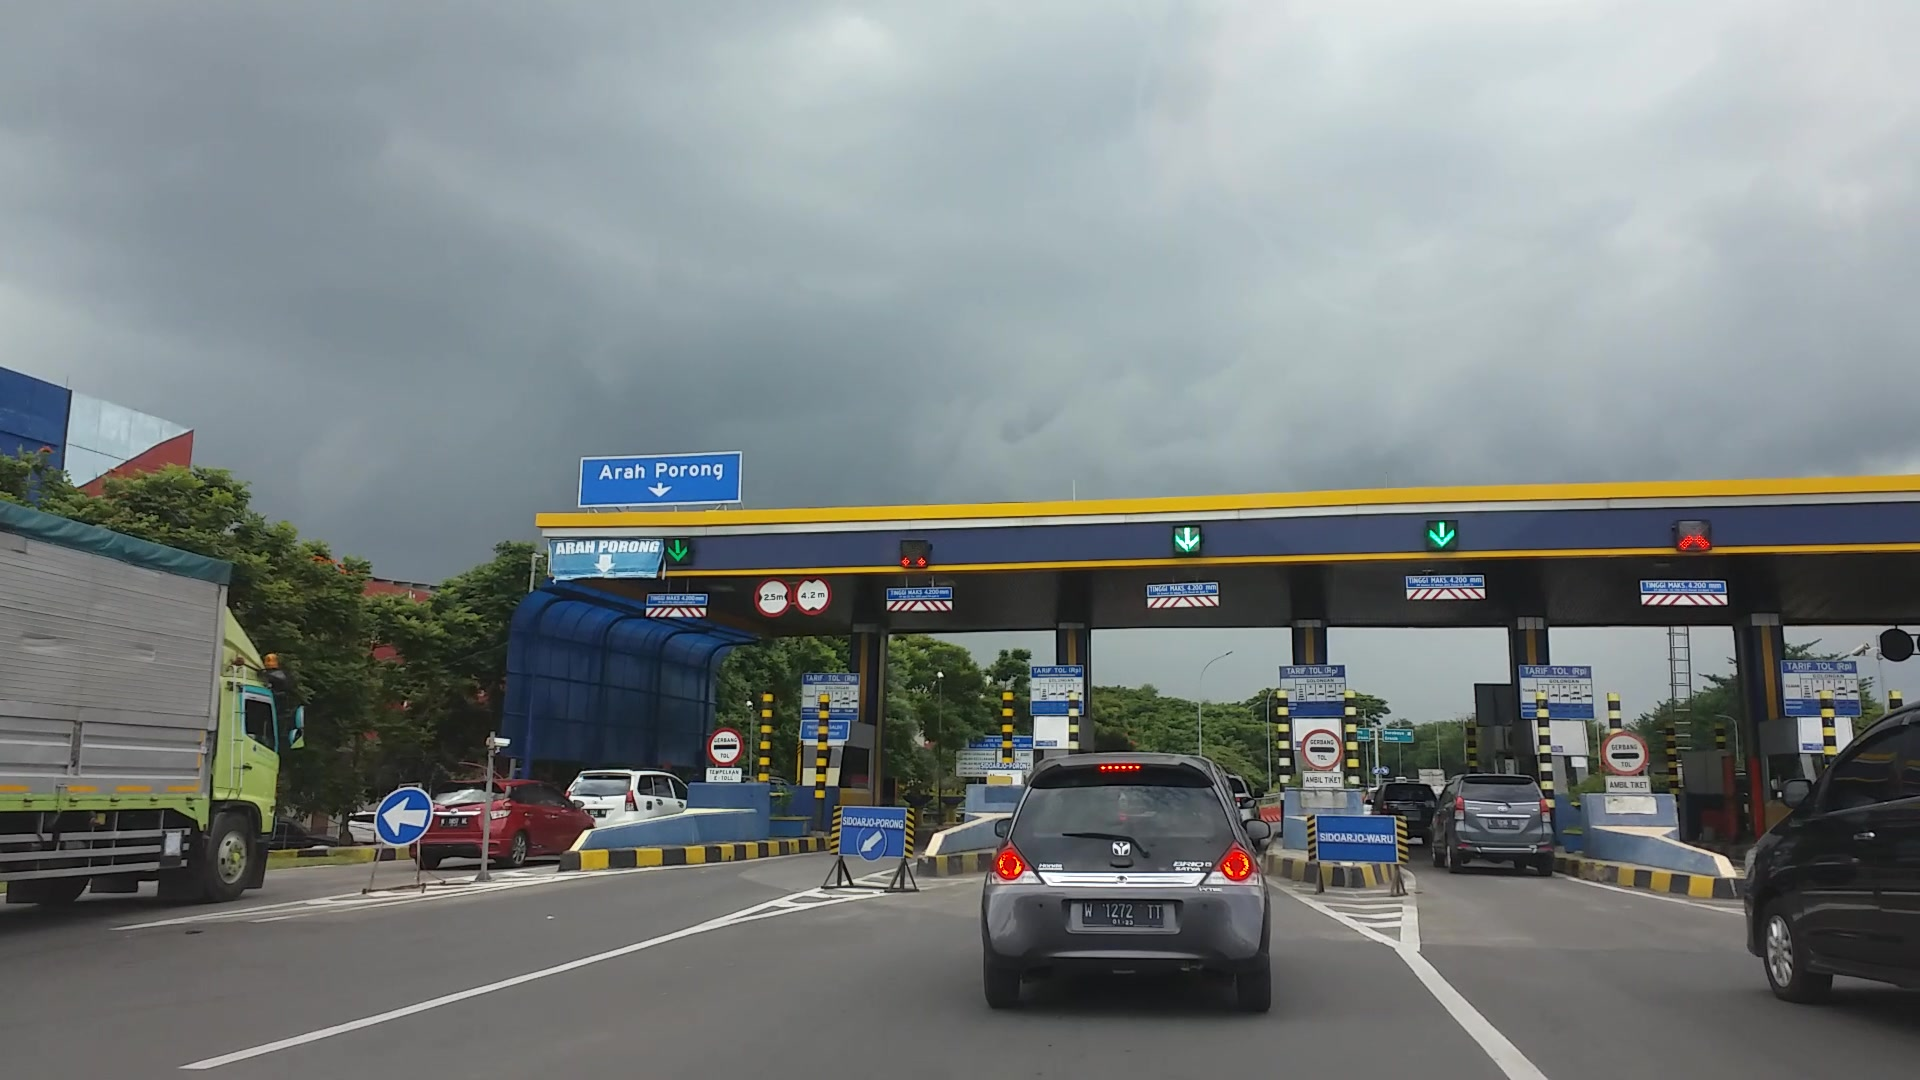plate_positive: (1083, 899, 1163, 928)
